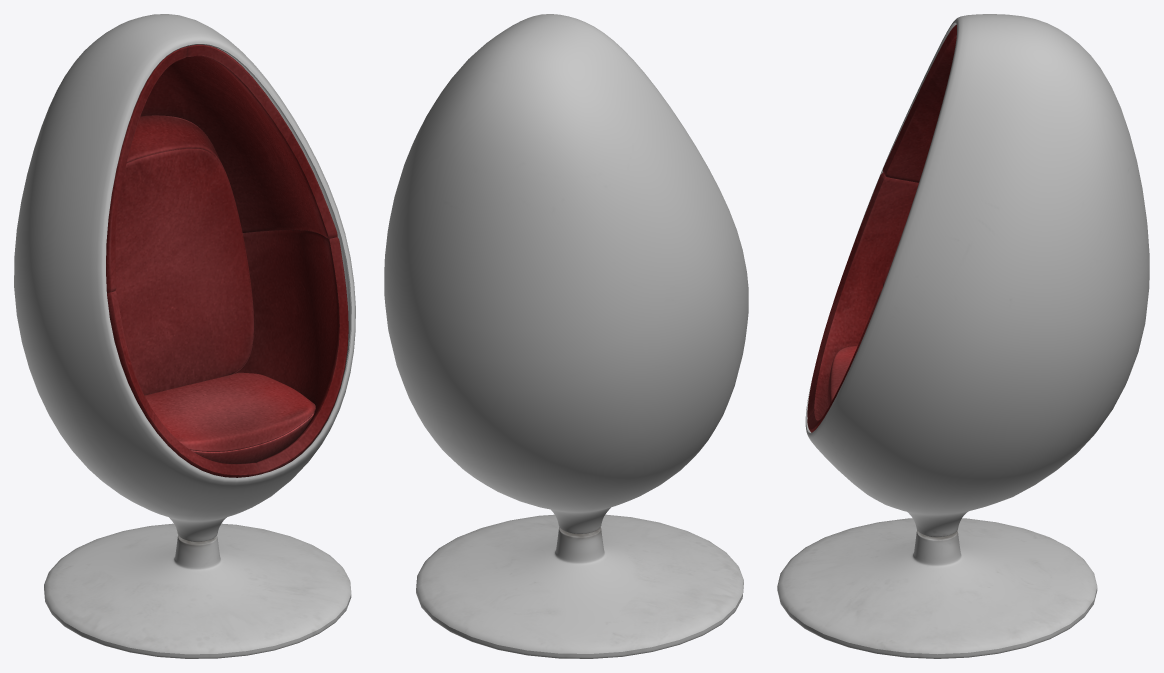
3 views of the same model, side by side, from view 1: azimuth 30°, elevation 25°; view 2: azimuth 150°, elevation 25°; view 3: azimuth 270°, elevation 25° (orthographic). The views are drawn at different scales.
Parts seen in each view (by area): view 1: Object027_03 Egg-chair_0; view 2: Object027_03 Egg-chair_0; view 3: Object027_03 Egg-chair_0.
Part boxes in pixels (x1,y1,x2,y2): Object027_03 Egg-chair_0: (14, 14, 355, 658); Object027_03 Egg-chair_0: (384, 14, 748, 658); Object027_03 Egg-chair_0: (777, 14, 1149, 658).
Bounding box in the file's own units: 0.7242 × 1.3 × 0.7692.
1 material, 1 textured.
